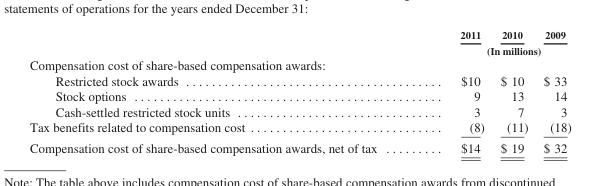table: (28, 28, 570, 154)
table column: (28, 28, 418, 154), (418, 28, 491, 154), (491, 28, 535, 154), (535, 28, 570, 154)
table column header: (28, 28, 570, 56)
table projected row header: (28, 56, 570, 72)
table row: (28, 119, 570, 137), (28, 137, 570, 154), (28, 56, 570, 72), (28, 72, 570, 88), (28, 103, 570, 119), (28, 88, 570, 103), (28, 28, 570, 42), (28, 42, 570, 56)
table spanning cell: (418, 42, 570, 56)
